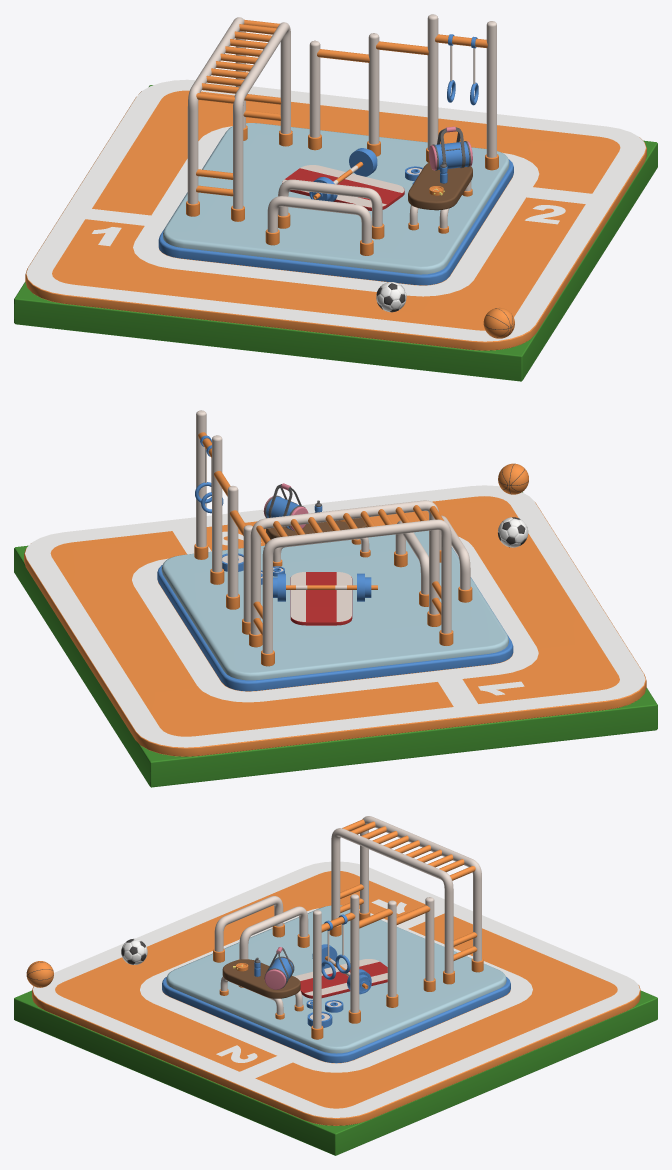
Rendered from Stadium_40.glb.
The picture shows the model from 3 angles, top to bottom: view 1: azimuth 30°, elevation 25°; view 2: azimuth 150°, elevation 25°; view 3: azimuth 270°, elevation 25°; orthographic projection. The views are drawn at different scales.
Visible parts, largest first — view 1: Room_20_Stadium_1, Room_20_Stadium_Sports_Area_1, Room_20_Stadium_Floor_1, Room_20_Stadium_Monkey_Bars_1, Room_20_Stadium_Horizontal_Bar_1, Room_20_Stadium_Bars_1, Room_20_Stadium_Sports_Bench_1, Room_20_Stadium_Yoga_Mat_1, Room_20_Stadium_Sport_Bag_1, Room_20_Stadium_Barbell_1, Room_20_Stadium_Basketball_1, Room_20_Stadium_Soccer_Ball_1 (+1 smaller); view 2: Room_20_Stadium_1, Room_20_Stadium_Sports_Area_1, Room_20_Stadium_Floor_1, Room_20_Stadium_Monkey_Bars_1, Room_20_Stadium_Horizontal_Bar_1, Room_20_Stadium_Yoga_Mat_1, Room_20_Stadium_Bars_1, Room_20_Stadium_Barbell_1, Room_20_Stadium_Sports_Bench_1, Room_20_Stadium_Sport_Bag_1, Room_20_Stadium_Basketball_1, Room_20_Stadium_Soccer_Ball_1; view 3: Room_20_Stadium_1, Room_20_Stadium_Sports_Area_1, Room_20_Stadium_Floor_1, Room_20_Stadium_Monkey_Bars_1, Room_20_Stadium_Horizontal_Bar_1, Room_20_Stadium_Bars_1, Room_20_Stadium_Sports_Bench_1, Room_20_Stadium_Yoga_Mat_1, Room_20_Stadium_Sport_Bag_1, Room_20_Stadium_Barbell_1, Room_20_Stadium_Basketball_1, Room_20_Stadium_Gymnastic_Rings_1 (+1 smaller).
Part boxes in pixels (bbox=[...]): Room_20_Stadium_1: bbox=[25, 79, 646, 350]; Room_20_Stadium_Sports_Area_1: bbox=[158, 123, 513, 285]; Room_20_Stadium_Floor_1: bbox=[14, 85, 657, 381]; Room_20_Stadium_Monkey_Bars_1: bbox=[186, 17, 292, 221]; Room_20_Stadium_Horizontal_Bar_1: bbox=[308, 14, 498, 170]; Room_20_Stadium_Bars_1: bbox=[265, 179, 384, 255]; Room_20_Stadium_Sports_Bench_1: bbox=[408, 162, 472, 233]; Room_20_Stadium_Yoga_Mat_1: bbox=[282, 165, 404, 210]; Room_20_Stadium_Sport_Bag_1: bbox=[428, 126, 472, 170]; Room_20_Stadium_Barbell_1: bbox=[309, 148, 377, 201]; Room_20_Stadium_Basketball_1: bbox=[483, 307, 514, 338]; Room_20_Stadium_Soccer_Ball_1: bbox=[376, 282, 406, 312]; Room_20_Stadium_1: bbox=[24, 485, 646, 756]; Room_20_Stadium_Sports_Area_1: bbox=[157, 530, 513, 691]; Room_20_Stadium_Floor_1: bbox=[14, 492, 657, 787]; Room_20_Stadium_Monkey_Bars_1: bbox=[249, 500, 453, 666]; Room_20_Stadium_Horizontal_Bar_1: bbox=[194, 410, 252, 634]; Room_20_Stadium_Yoga_Mat_1: bbox=[290, 572, 352, 625]; Room_20_Stadium_Bars_1: bbox=[394, 515, 472, 606]; Room_20_Stadium_Barbell_1: bbox=[273, 573, 377, 601]; Room_20_Stadium_Sports_Bench_1: bbox=[263, 518, 370, 566]; Room_20_Stadium_Sport_Bag_1: bbox=[263, 483, 308, 531]; Room_20_Stadium_Basketball_1: bbox=[498, 463, 528, 494]; Room_20_Stadium_Soccer_Ball_1: bbox=[498, 517, 528, 547]; Room_20_Stadium_1: bbox=[32, 861, 640, 1125]; Room_20_Stadium_Sports_Area_1: bbox=[162, 905, 510, 1063]; Room_20_Stadium_Floor_1: bbox=[14, 990, 657, 1155]; Room_20_Stadium_Monkey_Bars_1: bbox=[329, 816, 483, 984]; Room_20_Stadium_Horizontal_Bar_1: bbox=[311, 894, 435, 1039]; Room_20_Stadium_Bars_1: bbox=[213, 896, 309, 962]; Room_20_Stadium_Sports_Bench_1: bbox=[219, 959, 303, 1019]; Room_20_Stadium_Yoga_Mat_1: bbox=[294, 959, 387, 998]; Room_20_Stadium_Sport_Bag_1: bbox=[264, 947, 294, 989]; Room_20_Stadium_Barbell_1: bbox=[312, 944, 371, 994]; Room_20_Stadium_Basketball_1: bbox=[26, 961, 53, 987]; Room_20_Stadium_Gymnastic_Rings_1: bbox=[321, 914, 350, 979].
Size of the model in its own units: 10.25 by 3 by 10.25.
Materials: 1 (1 with a texture image).
